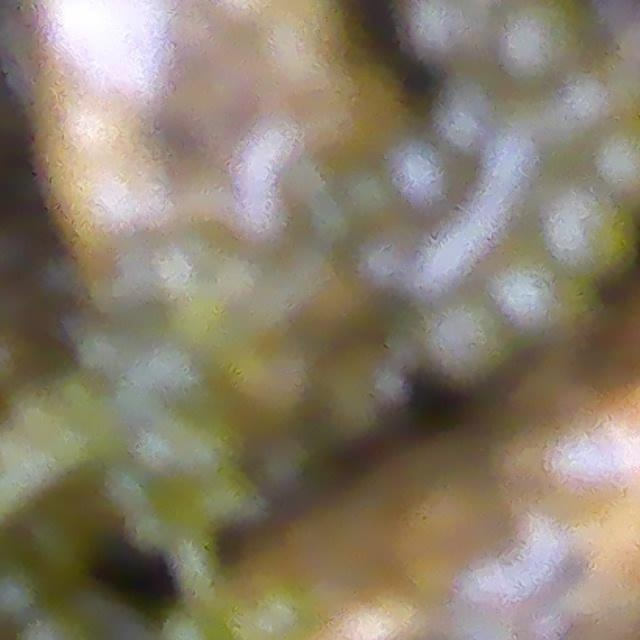SeaGrape: (418, 300, 510, 394), (492, 259, 580, 338), (541, 198, 629, 277)
